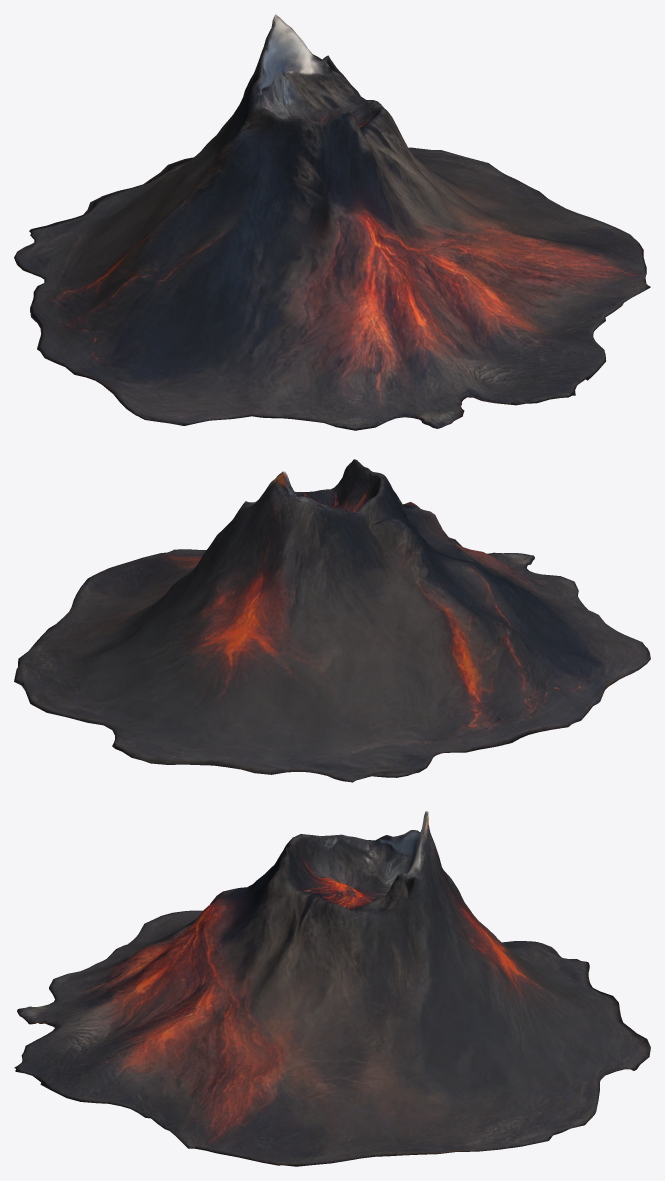
Rendered from Mountain_with_volcano_0125064450_texture.fbx.
3 views of the same model, one above another, from view 1: azimuth 30°, elevation 25°; view 2: azimuth 150°, elevation 25°; view 3: azimuth 270°, elevation 25° (orthographic). The views are drawn at different scales.
Visible parts, largest first — view 1: Mesh1_Mesh1.029; view 2: Mesh1_Mesh1.029; view 3: Mesh1_Mesh1.029.
Boxes of the visible parts, <box> form: Mesh1_Mesh1.029: <box>14,14,650,430</box>; Mesh1_Mesh1.029: <box>14,459,650,782</box>; Mesh1_Mesh1.029: <box>14,811,650,1166</box>.
Size of the model in its own units: 192 by 78.46 by 200.
1 material, 1 textured.
